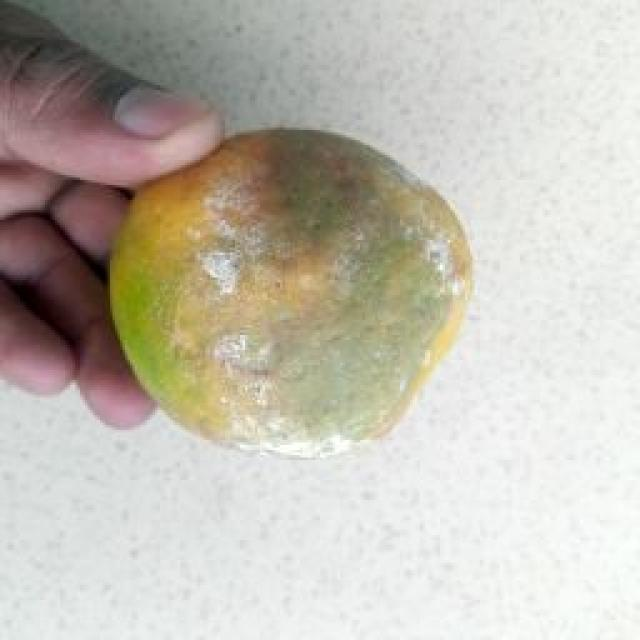Bad_Orange: (110, 129, 472, 457)
